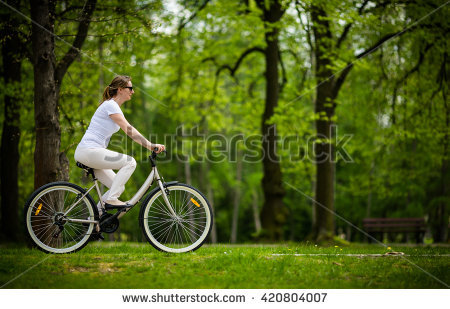bikerider: (24, 67, 220, 258)
